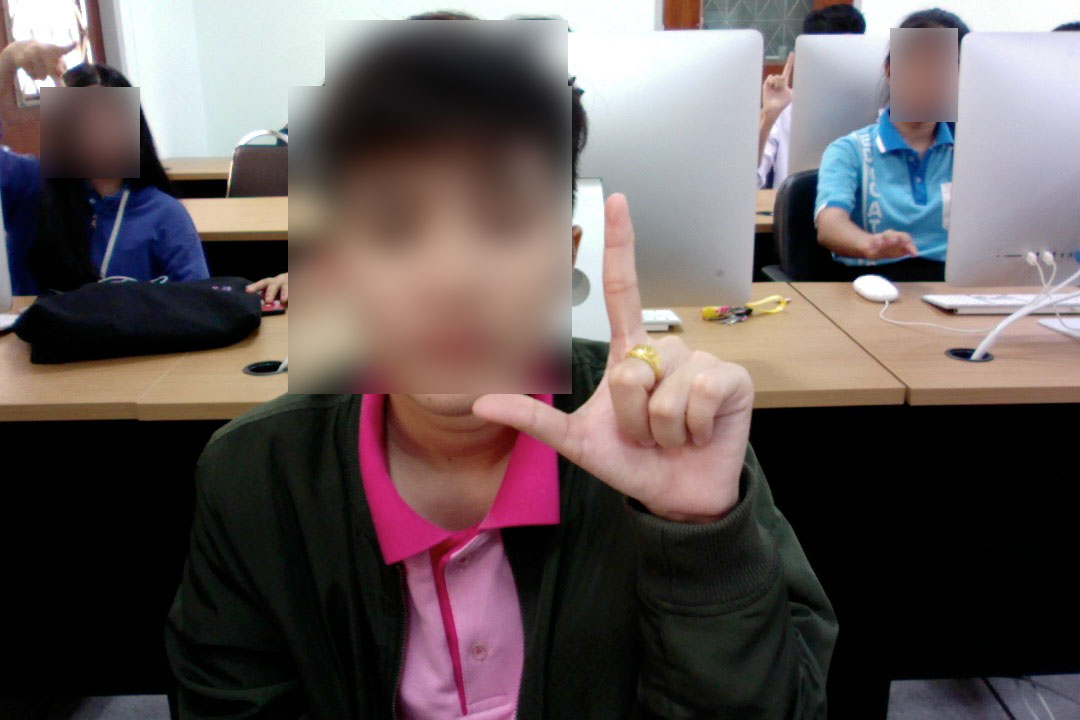lor: (452, 188, 797, 536)
